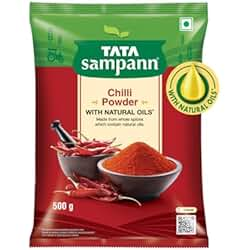Chilli Powder: (30, 3, 208, 248)
